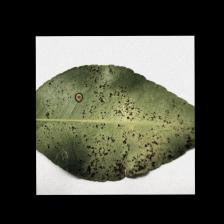canker: (101, 95, 162, 174)
